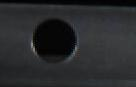holes: (29, 15, 79, 66)
